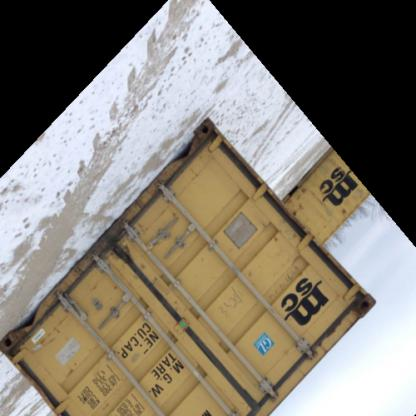Damage: (168, 120, 224, 184), (318, 294, 374, 352), (4, 304, 64, 354), (96, 223, 145, 276), (56, 263, 94, 304)
